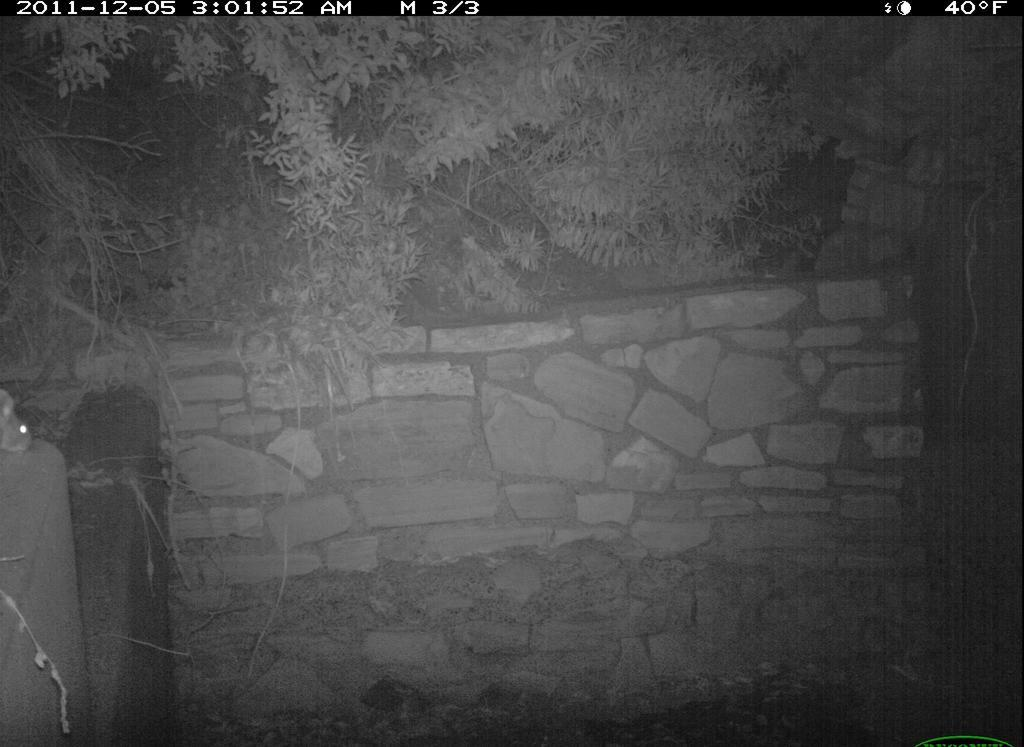rodent: (1, 385, 38, 462)
